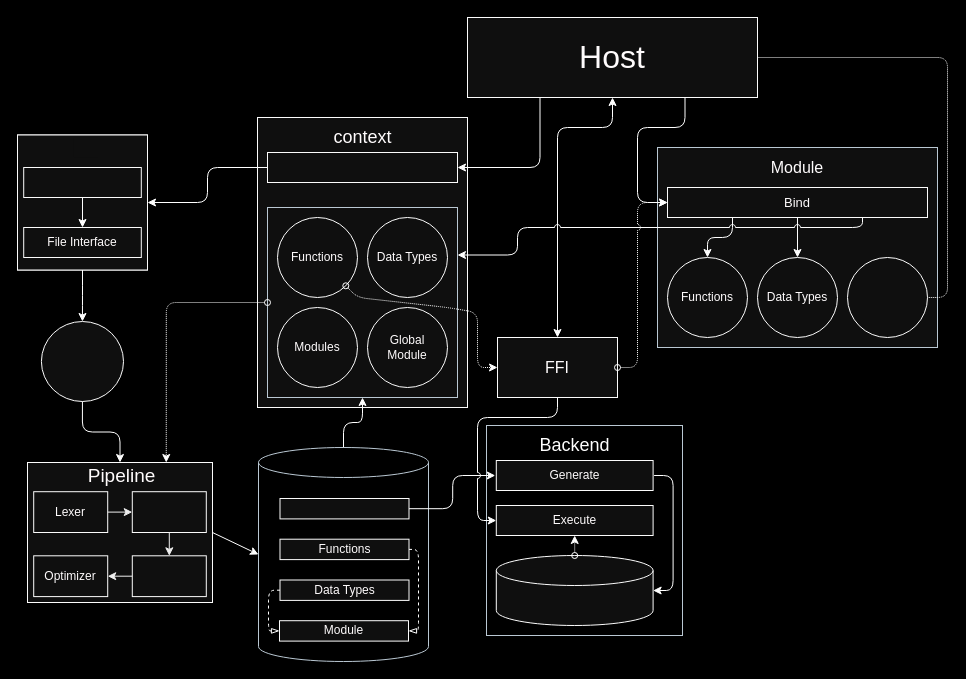
Some shapes in this 966 by 679 pixel diagram are drawn without their labels. The shapes that lost their labels are listed below. From the top down, each one's centre as x and y in pixels, then its label:
At (85,147): "IO".
At (362,167): "Add Module".
At (82,182): "IO Interface".
At (887,297): "Globals".
At (82,361): "Source Code".
At (168,511): "Parser".
At (344,508): "IR Code & Source Map".
At (168,576): "Compiler".
At (574,590): "Implementation Specific Data".
